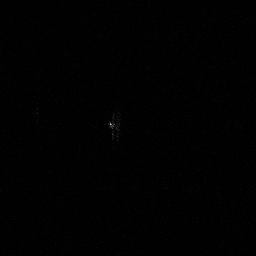ship: (107, 111, 121, 142)
